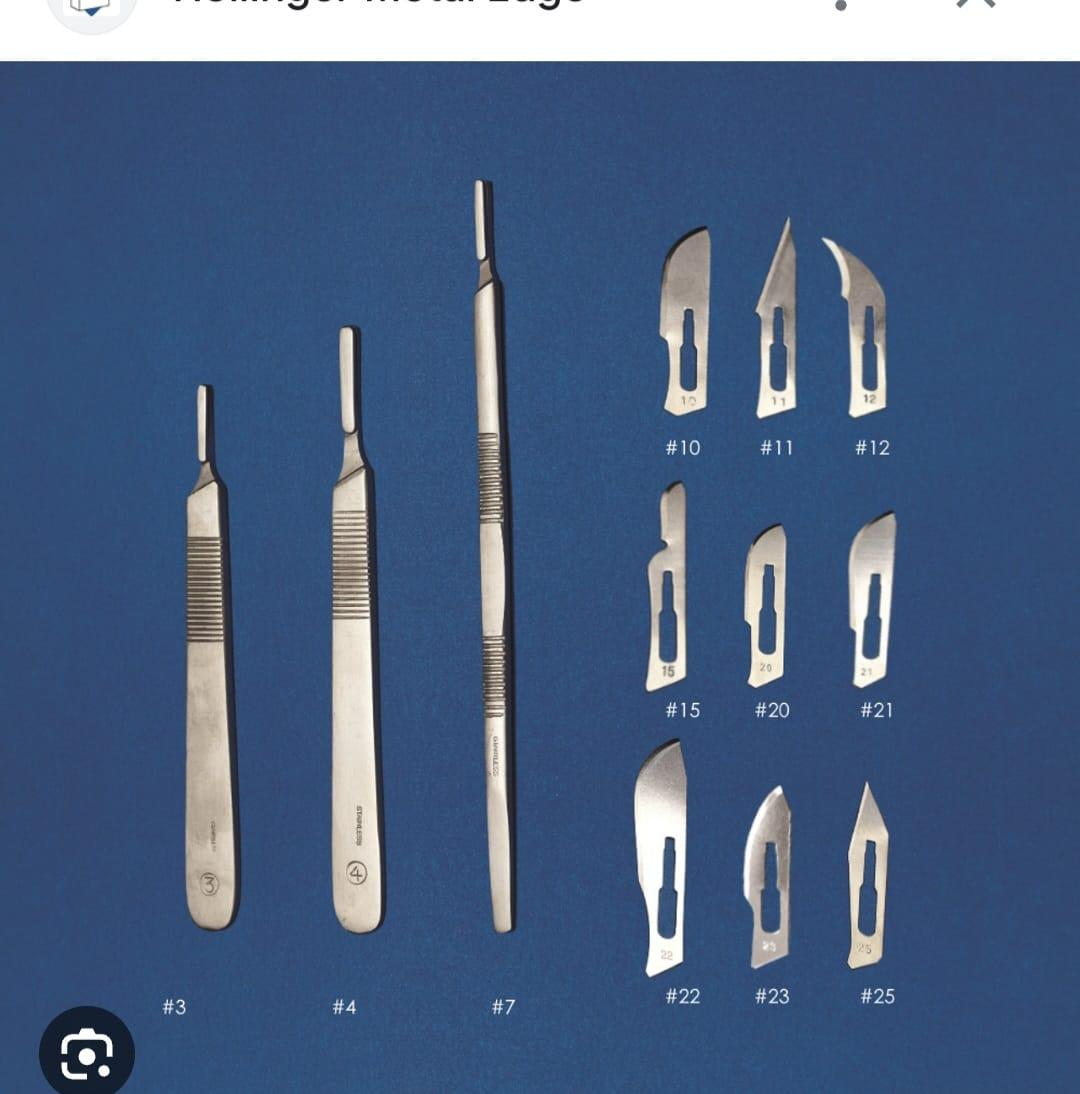Knife handle: (295, 288, 403, 942), (168, 368, 250, 945)
Surgical blade: (625, 732, 700, 985), (817, 228, 897, 422), (740, 775, 810, 975), (843, 503, 908, 700), (653, 222, 718, 417), (733, 513, 800, 697), (747, 207, 803, 425), (843, 778, 892, 973)
